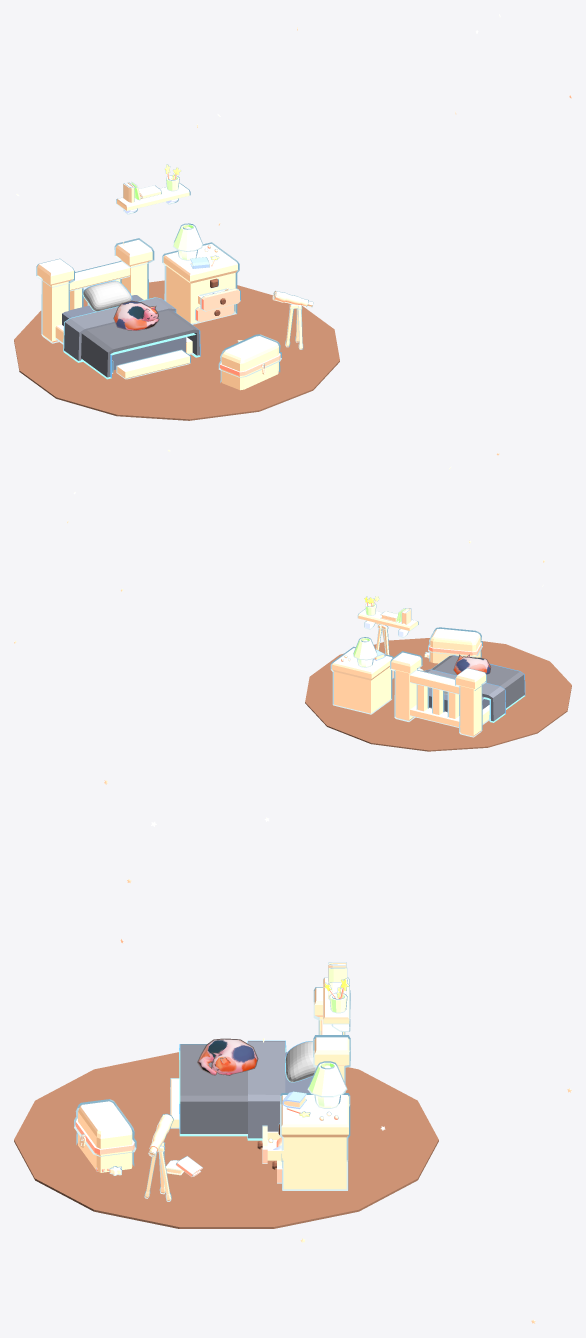
File: chapter-sunebear-home.glb
3 renders of one model, top to bottom at view 1: azimuth 30°, elevation 25°; view 2: azimuth 150°, elevation 25°; view 3: azimuth 270°, elevation 25°, orthographic. The views are drawn at different scales.
Parts seen in each view (by area): view 1: floor, Cube.024_22, Cube.040_66, box, Cube.035_61, Cube.041_67, Cube.037_63, Cube.016_16, Cube.005_5, Cube.021_21, Cube.009_9, sleepingcat (+3 smaller); view 2: floor, Cube.024_22, Cube.035_61, Cube.037_63, box, Cube.040_66, Cube.041_67, Cube.009_9, Cube.010_10, Cube.031_32, sleepingcat, Cylinder.003_34; view 3: floor, Cube.024_22, Cube.040_66, Cube.041_67, box, sleepingcat, Cube.037_63, Cylinder.003_34, Cube.021_21.
Part boxes in pixels (x1=…): floor: x1=14, y1=280, x2=339, y2=420; Cube.024_22: x1=162, y1=242, x2=239, y2=324; Cube.040_66: x1=81, y1=310, x2=200, y2=379; box: x1=220, y1=336, x2=280, y2=390; Cube.035_61: x1=36, y1=258, x2=75, y2=343; Cube.041_67: x1=63, y1=297, x2=176, y2=362; Cube.037_63: x1=114, y1=238, x2=154, y2=299; Cube.016_16: x1=62, y1=295, x2=186, y2=370; Cube.005_5: x1=116, y1=349, x2=190, y2=379; Cube.021_21: x1=82, y1=280, x2=132, y2=311; Cube.009_9: x1=69, y1=261, x2=130, y2=291; sleepingcat: x1=114, y1=301, x2=158, y2=330; floor: x1=305, y1=638, x2=571, y2=751; Cube.024_22: x1=330, y1=646, x2=393, y2=714; Cube.035_61: x1=455, y1=668, x2=486, y2=737; Cube.037_63: x1=390, y1=651, x2=422, y2=721; box: x1=429, y1=629, x2=481, y2=663; Cube.040_66: x1=431, y1=655, x2=525, y2=709; Cube.041_67: x1=424, y1=669, x2=505, y2=722; Cube.009_9: x1=410, y1=669, x2=459, y2=694; Cube.010_10: x1=410, y1=705, x2=460, y2=727; Cube.031_32: x1=357, y1=608, x2=418, y2=630; sleepingcat: x1=454, y1=655, x2=490, y2=674; Cylinder.003_34: x1=353, y1=637, x2=377, y2=660; floor: x1=14, y1=1052, x2=438, y2=1228; Cube.024_22: x1=280, y1=1093, x2=350, y2=1190; Cube.040_66: x1=179, y1=1044, x2=247, y2=1136; Cube.041_67: x1=247, y1=1040, x2=286, y2=1140; box: x1=75, y1=1101, x2=134, y2=1172; sleepingcat: x1=198, y1=1039, x2=257, y2=1074; Cube.037_63: x1=313, y1=1035, x2=350, y2=1092; Cylinder.003_34: x1=307, y1=1061, x2=347, y2=1097; Cube.021_21: x1=285, y1=1041, x2=316, y2=1082.
Bounding box in the file's own units: 3.64 × 1.64 × 2.4.
17 materials, 1 textured.
